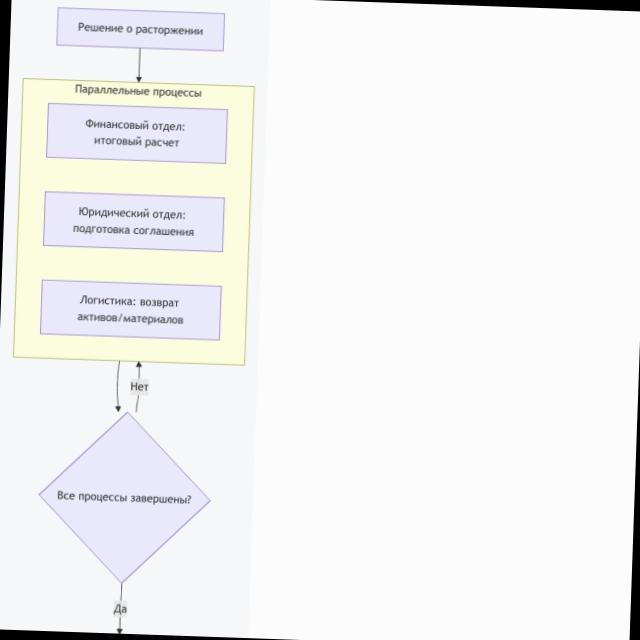arrow: (108, 356, 125, 414), (131, 358, 147, 413), (114, 580, 127, 633), (131, 45, 147, 80)
diamond: (40, 414, 208, 582)
rectangle: (43, 192, 224, 252), (40, 280, 221, 340), (46, 103, 227, 163), (57, 8, 224, 51)
text_region: (67, 81, 212, 102), (106, 599, 136, 614), (125, 381, 155, 394)
